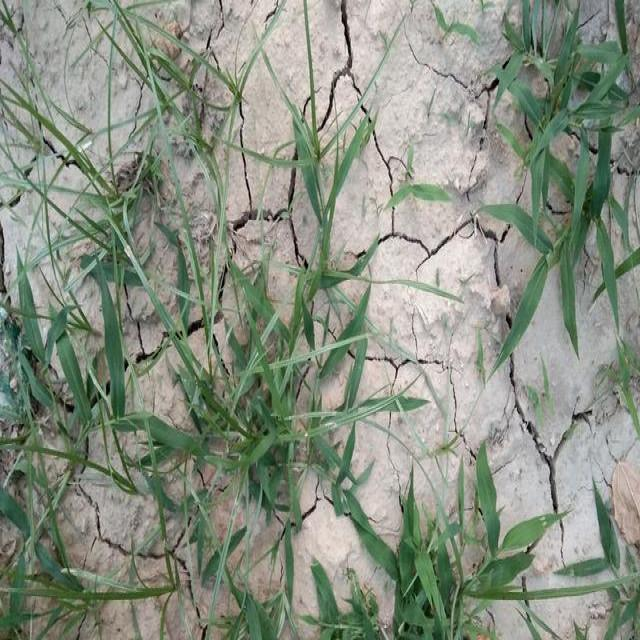weed: (77, 187, 372, 571), (492, 0, 640, 362), (0, 260, 129, 624), (6, 25, 247, 202), (365, 487, 640, 640), (273, 66, 372, 317), (214, 541, 365, 640), (389, 143, 452, 217)
